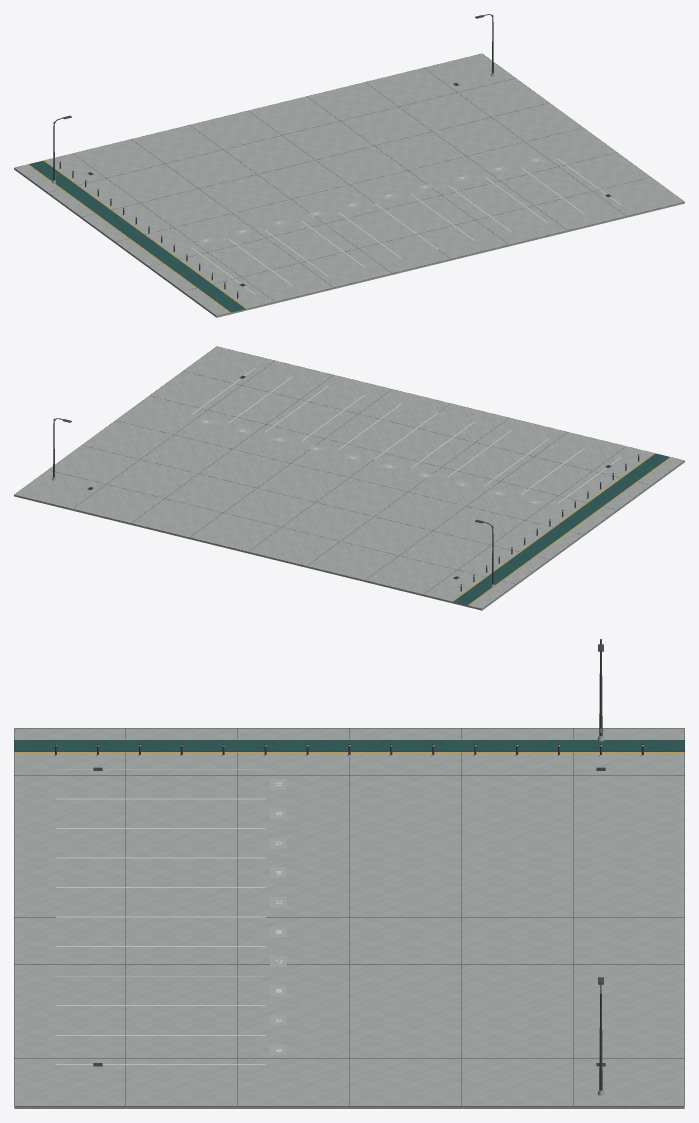
Rendered from logistics-yard.glb.
3 renders of one model, top to bottom at view 1: azimuth 30°, elevation 25°; view 2: azimuth 150°, elevation 25°; view 3: azimuth 270°, elevation 25°, orthographic. The views are drawn at different scales.
Visible parts, largest first — view 1: logistics-yard_cast-concrete, logistics-yard_hubtrace-teal-cladding, logistics-yard_rubber-gaskets, logistics-yard_off-white-painted, logistics-yard_powder-coated-frame, logistics-yard_safety-yellow; view 2: logistics-yard_cast-concrete, logistics-yard_hubtrace-teal-cladding, logistics-yard_rubber-gaskets, logistics-yard_off-white-painted, logistics-yard_powder-coated-frame, logistics-yard_safety-yellow; view 3: logistics-yard_cast-concrete, logistics-yard_hubtrace-teal-cladding, logistics-yard_rubber-gaskets, logistics-yard_off-white-painted, logistics-yard_powder-coated-frame, logistics-yard_safety-yellow.
Boxes of the visible parts, x1=… form: logistics-yard_cast-concrete: x1=14, y1=53, x2=684, y2=317; logistics-yard_hubtrace-teal-cladding: x1=29, y1=160, x2=245, y2=312; logistics-yard_rubber-gaskets: x1=15, y1=54, x2=682, y2=315; logistics-yard_off-white-painted: x1=59, y1=158, x2=620, y2=294; logistics-yard_powder-coated-frame: x1=53, y1=14, x2=611, y2=298; logistics-yard_safety-yellow: x1=28, y1=160, x2=246, y2=312; logistics-yard_cast-concrete: x1=14, y1=346, x2=684, y2=610; logistics-yard_hubtrace-teal-cladding: x1=453, y1=453, x2=669, y2=605; logistics-yard_rubber-gaskets: x1=14, y1=346, x2=684, y2=608; logistics-yard_off-white-painted: x1=192, y1=368, x2=639, y2=585; logistics-yard_powder-coated-frame: x1=53, y1=375, x2=639, y2=591; logistics-yard_safety-yellow: x1=452, y1=453, x2=670, y2=605; logistics-yard_cast-concrete: x1=14, y1=728, x2=684, y2=1108; logistics-yard_hubtrace-teal-cladding: x1=14, y1=740, x2=684, y2=751; logistics-yard_rubber-gaskets: x1=14, y1=728, x2=684, y2=1106; logistics-yard_off-white-painted: x1=55, y1=745, x2=643, y2=1064; logistics-yard_powder-coated-frame: x1=55, y1=639, x2=643, y2=1090; logistics-yard_safety-yellow: x1=14, y1=739, x2=684, y2=752.
Bounding box in the file's own units: 64.03 × 8.44 × 48.03.
Materials: 15 (15 with a texture image).
